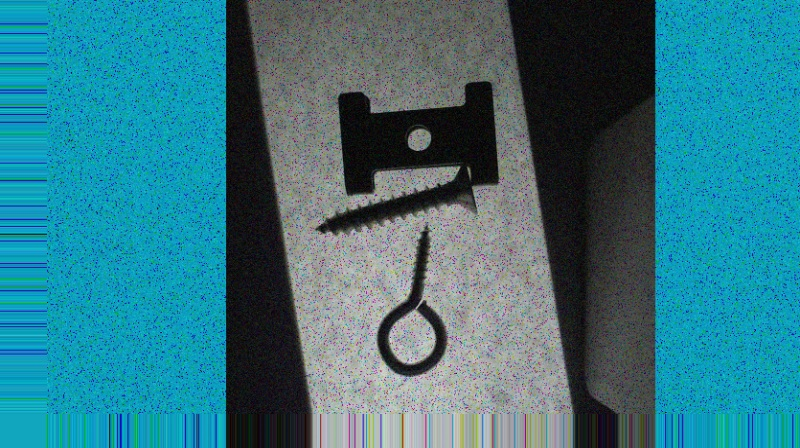O001: (374, 222, 447, 379)
O002: (337, 80, 499, 194)
S001: (313, 162, 477, 234)
